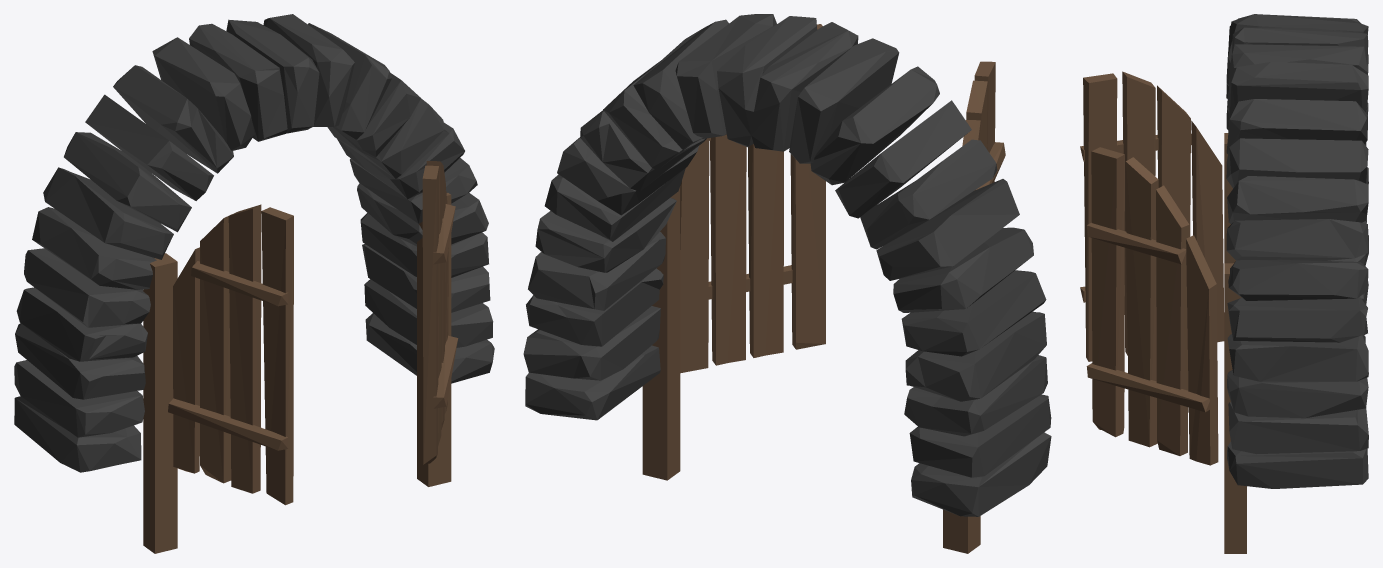
The model's file is arch-door.lod1.glb.
The picture shows the model from 3 angles, left to right: view 1: azimuth 30°, elevation 25°; view 2: azimuth 150°, elevation 25°; view 3: azimuth 270°, elevation 25°; orthographic projection. The views are drawn at different scales.
Visible parts, largest first — view 1: Object_3; view 2: Object_3; view 3: Object_3.
Boxes of the visible parts, x1,y1,x2,y2 form: Object_3: [14, 14, 494, 553]; Object_3: [523, 14, 1051, 553]; Object_3: [1080, 14, 1368, 553].
Size of the model in its own units: 3.29 by 3.38 by 2.02.
